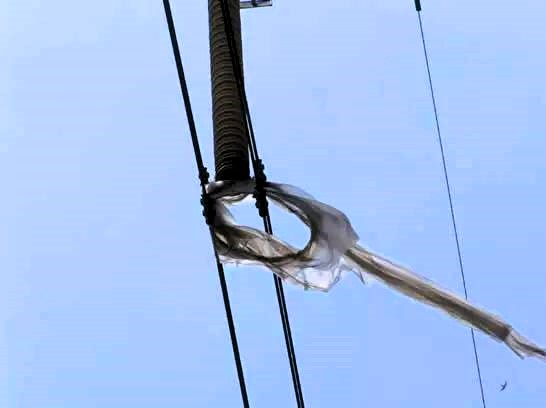wire foreign body: (187, 177, 509, 348)
